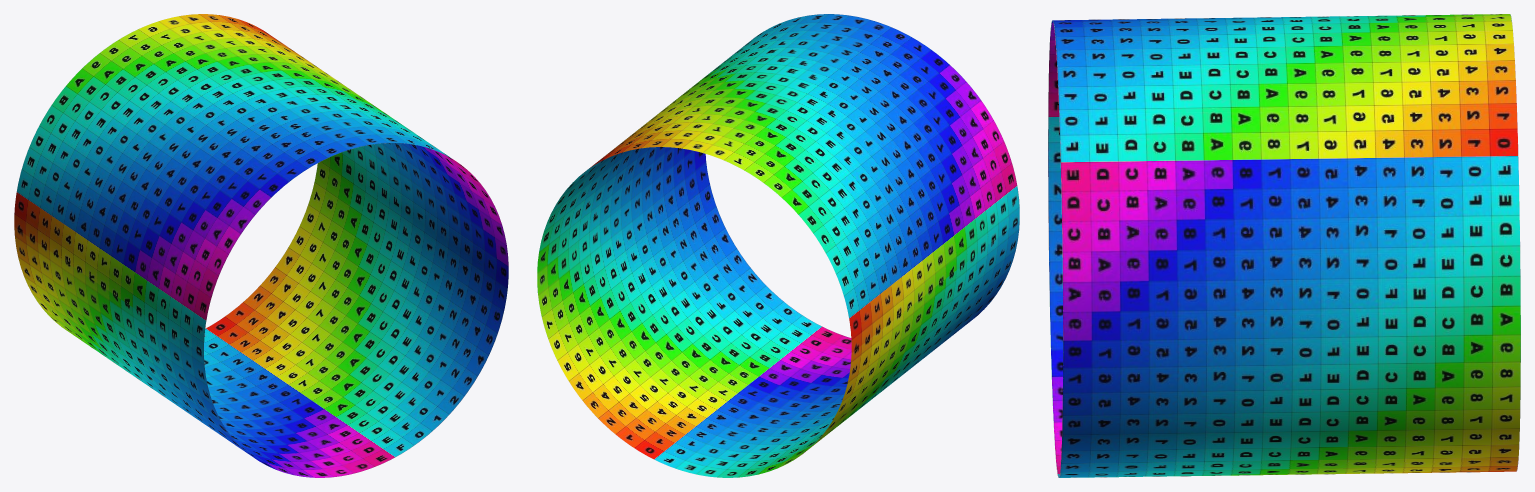
Rendered from tunnelUVMap.dae.
3 renders of one model, left to right at view 1: azimuth 30°, elevation 25°; view 2: azimuth 150°, elevation 25°; view 3: azimuth 270°, elevation 25°, orthographic. The views are drawn at different scales.
Parts seen in each view (by area): view 1: SketchUp; view 2: SketchUp; view 3: SketchUp.
Part boxes in pixels (<box>): SketchUp: <box>14,14,508,477</box>; SketchUp: <box>537,14,1019,477</box>; SketchUp: <box>1048,14,1520,477</box>.
Size of the model in its own units: 1.03 by 1.03 by 0.9995.
1 material, 1 textured.
